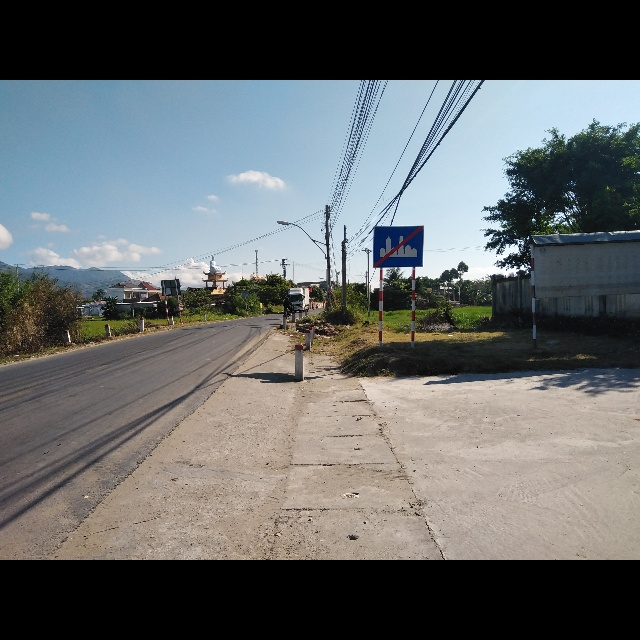Hết khu đông dân cư: (372, 225, 425, 268)
